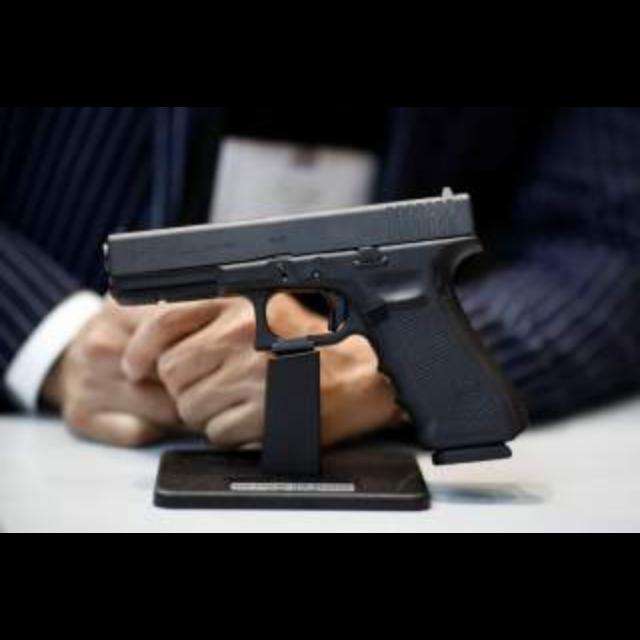handgun: (98, 183, 530, 471)
